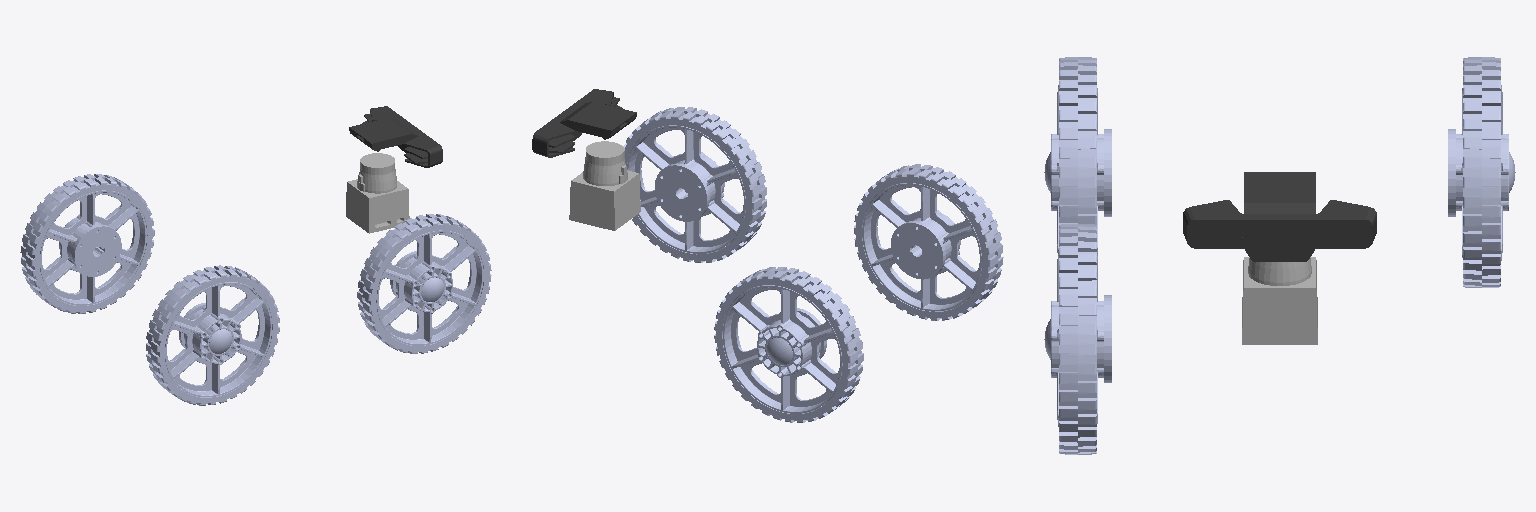
URDF robot description (robotican_lizi):
<robot
  name="robotican_lizi">
  <link
    name="base_link">
    <inertial>
      <origin
        xyz="0.0041783 0.0052424 0.04047"
        rpy="0 0 0" />
      <mass
        value="0.47025" />
      <inertia
        ixx="0.004176"
        ixy="0.00013487"
        ixz="-0.00050843"
        iyy="0.0083952"
        iyz="8.2807E-06"
        izz="0.0098763" />
    </inertial>
    <visual>
      <origin
        xyz="0 0 0"
        rpy="0 0 0" />
      <geometry>
        <mesh
          filename="package://robotican_lizi/meshes/base_link.STL" />
      </geometry>
      <material
        name="">
        <color
          rgba="0.79216 0.81961 0.93333 1" />
      </material>
    </visual>
    <collision>
      <origin
        xyz="0 0 0"
        rpy="0 0 0" />
      <geometry>
        <mesh
          filename="package://robotican_lizi/meshes/base_link.STL" />
      </geometry>
    </collision>
  </link>
  <link
    name="footprint_link" />
  <joint
    name="footprint_joint"
    type="fixed">
    <origin
      xyz="0 0 -0.0762"
      rpy="0 0 0" />
    <parent
      link="base_link" />
    <child
      link="footprint_link" />
    <axis
      xyz="0 0 0" />
  </joint>
  <link
    name="laser_link">
    <inertial>
      <origin
        xyz="-3.976E-05 0.00016529 -0.022904"
        rpy="0 0 0" />
      <mass
        value="0.13302" />
      <inertia
        ixx="6.9591E-05"
        ixy="-6.1652E-08"
        ixz="-1.627E-07"
        iyy="7.0066E-05"
        iyz="-4.9495E-07"
        izz="4.5841E-05" />
    </inertial>
    <visual>
      <origin
        xyz="0 0 0"
        rpy="0 0 0" />
      <geometry>
        <mesh
          filename="package://robotican_lizi/meshes/laser_link.STL" />
      </geometry>
      <material
        name="">
        <color
          rgba="0.75294 0.75294 0.75294 1" />
      </material>
    </visual>
    <collision>
      <origin
        xyz="0 0 0"
        rpy="0 0 0" />
      <geometry>
        <mesh
          filename="package://robotican_lizi/meshes/laser_link.STL" />
      </geometry>
    </collision>
  </link>
  <joint
    name="laser_joint"
    type="fixed">
    <origin
      xyz="0.1495 0 0.069005"
      rpy="0 0 0" />
    <parent
      link="base_link" />
    <child
      link="laser_link" />
    <axis
      xyz="0 0 0" />
  </joint>
  <link
    name="sr300_link">
    <inertial>
      <origin
        xyz="-0.019521 -4.9406E-07 0.0028518"
        rpy="0 0 0" />
      <mass
        value="0.064787" />
      <inertia
        ixx="5.9362E-05"
        ixy="-6.331E-10"
        ixz="-5.1662E-06"
        iyy="2.5368E-05"
        iyz="4.3621E-11"
        izz="7.6483E-05" />
    </inertial>
    <visual>
      <origin
        xyz="0 0 0"
        rpy="0 0 0" />
      <geometry>
        <mesh
          filename="package://robotican_lizi/meshes/sr300_link.STL" />
      </geometry>
      <material
        name="">
        <color
          rgba="0.29804 0.29804 0.29804 1" />
      </material>
    </visual>
    <collision>
      <origin
        xyz="0 0 0"
        rpy="0 0 0" />
      <geometry>
        <mesh
          filename="package://robotican_lizi/meshes/sr300_link.STL" />
      </geometry>
    </collision>
  </link>
  <joint
    name="sr300_joint"
    type="fixed">
    <origin
      xyz="0.19382 0 0.10646"
      rpy="0 0 0" />
    <parent
      link="base_link" />
    <child
      link="sr300_link" />
    <axis
      xyz="0 0 0" />
  </joint>
  <link
    name="left_urf_link" />
  <joint
    name="left_urf_joint"
    type="fixed">
    <origin
      xyz="0.014542 0.1055 0.0902"
      rpy="0 0 1.5708" />
    <parent
      link="base_link" />
    <child
      link="left_urf_link" />
    <axis
      xyz="0 0 0" />
  </joint>
  <link
    name="rear_urf_link" />
  <joint
    name="rear_urf_joint"
    type="fixed">
    <origin
      xyz="-0.18 0 0.0902"
      rpy="0 0 3.1416" />
    <parent
      link="base_link" />
    <child
      link="rear_urf_link" />
    <axis
      xyz="0 0 0" />
  </joint>
  <link
    name="right_urf_link" />
  <joint
    name="right_urf_joint"
    type="fixed">
    <origin
      xyz="0.014542 -0.1055 0.0902"
      rpy="0 0 -1.5708" />
    <parent
      link="base_link" />
    <child
      link="right_urf_link" />
    <axis
      xyz="0 0 0" />
  </joint>
  <link
    name="FL_wheel_link">
    <inertial>
      <origin
        xyz="-9.1354E-06 -0.001115 4.3697E-07"
        rpy="0 0 0" />
      <mass
        value="0.20156" />
      <inertia
        ixx="0.00032875"
        ixy="8.8617E-09"
        ixz="8.2109E-12"
        iyy="0.00062398"
        iyz="5.8123E-10"
        izz="0.00032873" />
    </inertial>
    <visual>
      <origin
        xyz="0 0 0"
        rpy="0 0 0" />
      <geometry>
        <mesh
          filename="package://robotican_lizi/meshes/FL_wheel_link.STL" />
      </geometry>
      <material
        name="">
        <color
          rgba="0.79216 0.81961 0.93333 1" />
      </material>
    </visual>
    <collision>
      <origin
        xyz="0 0 0"
        rpy="0 0 0" />
      <geometry>
        <mesh
          filename="package://robotican_lizi/meshes/FL_wheel_link.STL" />
      </geometry>
    </collision>
  </link>
  <joint
    name="FL_wheel_joint"
    type="continuous">
    <origin
      xyz="0.13 0.13321 0"
      rpy="0 0 0" />
    <parent
      link="base_link" />
    <child
      link="FL_wheel_link" />
    <axis
      xyz="0 1 0" />
  </joint>
  <link
    name="RL_wheel_link">
    <inertial>
      <origin
        xyz="-9.1354E-06 -0.001115 4.3697E-07"
        rpy="0 0 0" />
      <mass
        value="0.20156" />
      <inertia
        ixx="0.00032875"
        ixy="8.8617E-09"
        ixz="8.2109E-12"
        iyy="0.00062398"
        iyz="5.8123E-10"
        izz="0.00032873" />
    </inertial>
    <visual>
      <origin
        xyz="0 0 0"
        rpy="0 0 0" />
      <geometry>
        <mesh
          filename="package://robotican_lizi/meshes/RL_wheel_link.STL" />
      </geometry>
      <material
        name="">
        <color
          rgba="0.79216 0.81961 0.93333 1" />
      </material>
    </visual>
    <collision>
      <origin
        xyz="0 0 0"
        rpy="0 0 0" />
      <geometry>
        <mesh
          filename="package://robotican_lizi/meshes/RL_wheel_link.STL" />
      </geometry>
    </collision>
  </link>
  <joint
    name="RL_wheel_joint"
    type="continuous">
    <origin
      xyz="-0.13 0.13321 0"
      rpy="0 0 0" />
    <parent
      link="base_link" />
    <child
      link="RL_wheel_link" />
    <axis
      xyz="0 -1 0" />
  </joint>
  <link
    name="FR_wheel_link">
    <inertial>
      <origin
        xyz="9.1354E-06 0.001115 4.3696E-07"
        rpy="0 0 0" />
      <mass
        value="0.20156" />
      <inertia
        ixx="0.00032875"
        ixy="8.8617E-09"
        ixz="-8.2128E-12"
        iyy="0.00062398"
        iyz="-5.8127E-10"
        izz="0.00032873" />
    </inertial>
    <visual>
      <origin
        xyz="0 0 0"
        rpy="0 0 0" />
      <geometry>
        <mesh
          filename="package://robotican_lizi/meshes/FR_wheel_link.STL" />
      </geometry>
      <material
        name="">
        <color
          rgba="0.79216 0.81961 0.93333 1" />
      </material>
    </visual>
    <collision>
      <origin
        xyz="0 0 0"
        rpy="0 0 0" />
      <geometry>
        <mesh
          filename="package://robotican_lizi/meshes/FR_wheel_link.STL" />
      </geometry>
    </collision>
  </link>
  <joint
    name="FR_wheell_joint"
    type="continuous">
    <origin
      xyz="0.13 -0.13321 0"
      rpy="0 0 0" />
    <parent
      link="base_link" />
    <child
      link="FR_wheel_link" />
    <axis
      xyz="0 1 0" />
  </joint>
  <link
    name="RR_wheel_link">
    <inertial>
      <origin
        xyz="-9.1354E-06 0.001115 -4.3696E-07"
        rpy="0 0 0" />
      <mass
        value="0.20156" />
      <inertia
        ixx="0.00032875"
        ixy="-8.8617E-09"
        ixz="-8.2125E-12"
        iyy="0.00062398"
        iyz="5.8127E-10"
        izz="0.00032873" />
    </inertial>
    <visual>
      <origin
        xyz="0 0 0"
        rpy="0 0 0" />
      <geometry>
        <mesh
          filename="package://robotican_lizi/meshes/RR_wheel_link.STL" />
      </geometry>
      <material
        name="">
        <color
          rgba="0.79216 0.81961 0.93333 1" />
      </material>
    </visual>
    <collision>
      <origin
        xyz="0 0 0"
        rpy="0 0 0" />
      <geometry>
        <mesh
          filename="package://robotican_lizi/meshes/RR_wheel_link.STL" />
      </geometry>
    </collision>
  </link>
  <joint
    name="RR_wheel_joint"
    type="continuous">
    <origin
      xyz="-0.13 -0.13321 0"
      rpy="0 0 0" />
    <parent
      link="base_link" />
    <child
      link="RR_wheel_link" />
    <axis
      xyz="0 -1 0" />
  </joint>
  <link
    name="front_camera_link" />
  <joint
    name="front_camera_joint"
    type="fixed">
    <origin
      xyz="0.17275 0.068 0.0202"
      rpy="0 0 0" />
    <parent
      link="base_link" />
    <child
      link="front_camera_link" />
    <axis
      xyz="0 0 0" />
  </joint>
</robot>

--- Render facts (derived) ---
The picture shows the robot from 3 angles, left to right: view 1: azimuth 30°, elevation 25°; view 2: azimuth 150°, elevation 25°; view 3: azimuth 270°, elevation 25°; orthographic projection.
Robot: robotican_lizi — 12 links, 11 joints (4 continuous, 7 fixed); root link base_link; default pose: every joint at zero.
Links seen in each view (by area): view 1: RL_wheel_link, FR_wheel_link, RR_wheel_link, laser_link, sr300_link; view 2: RL_wheel_link, RR_wheel_link, FR_wheel_link, laser_link, sr300_link; view 3: sr300_link, RL_wheel_link, FR_wheel_link, RR_wheel_link, laser_link.
Boxes of the visible links, x1=… form: RL_wheel_link: x1=20, y1=174, x2=154, y2=313; FR_wheel_link: x1=357, y1=214, x2=491, y2=353; RR_wheel_link: x1=146, y1=265, x2=279, y2=405; laser_link: x1=346, y1=153, x2=409, y2=233; sr300_link: x1=349, y1=106, x2=442, y2=167; RL_wheel_link: x1=714, y1=267, x2=863, y2=422; RR_wheel_link: x1=854, y1=164, x2=1003, y2=320; FR_wheel_link: x1=623, y1=107, x2=766, y2=262; laser_link: x1=569, y1=141, x2=640, y2=230; sr300_link: x1=532, y1=89, x2=636, y2=157; sr300_link: x1=1183, y1=172, x2=1376, y2=261; RL_wheel_link: x1=1448, y1=57, x2=1515, y2=287; FR_wheel_link: x1=1044, y1=224, x2=1111, y2=454; RR_wheel_link: x1=1044, y1=57, x2=1111, y2=253; laser_link: x1=1242, y1=257, x2=1317, y2=344.
Size in the robot's own frame: 0.4123 by 0.3103 by 0.1971 metres.
5 mesh visuals loaded from 7 distinct referenced files (5 binary STL); not drawn: 2 (reference not matched to a file when rendering).
